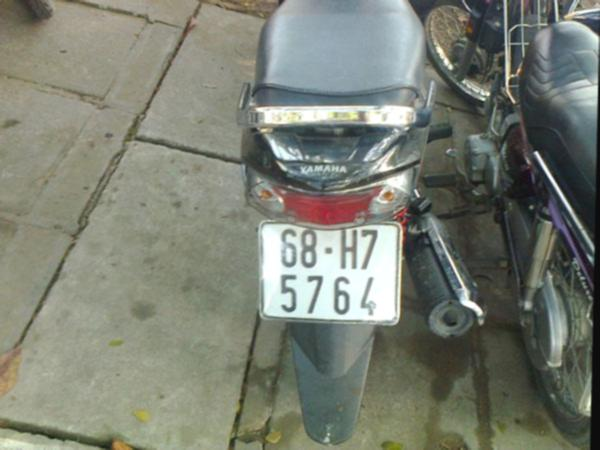License_Plate: (261, 222, 401, 325)
